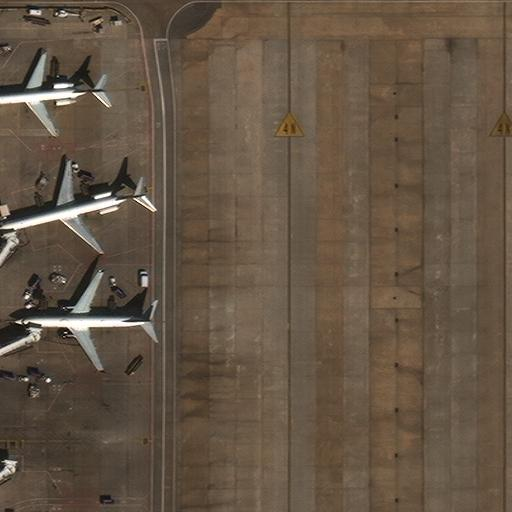Medium Civil Transport: (14, 270, 152, 371), (0, 160, 145, 253), (0, 53, 106, 136)
